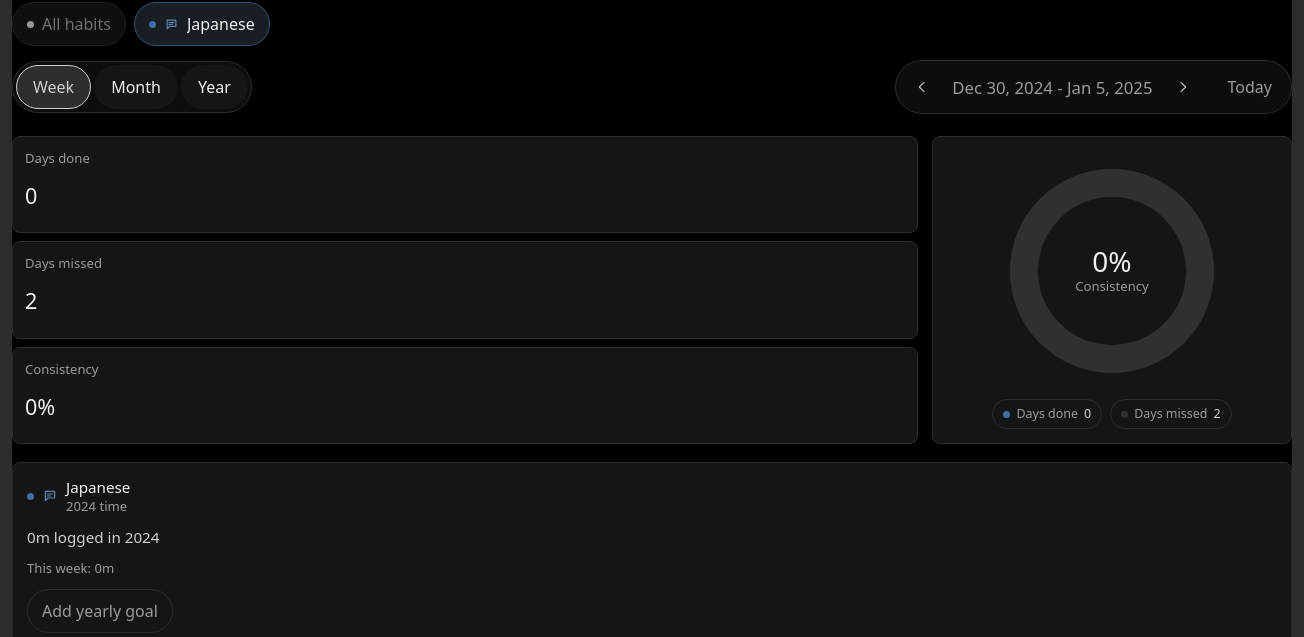
Scenario: StatisticsView time goal card › shows leap-year February date numbers in the Year calendar
The image size is (1304, 637).
Click the button "Year" at (214, 87), box [181, 65, 248, 109]
(page scrolled)
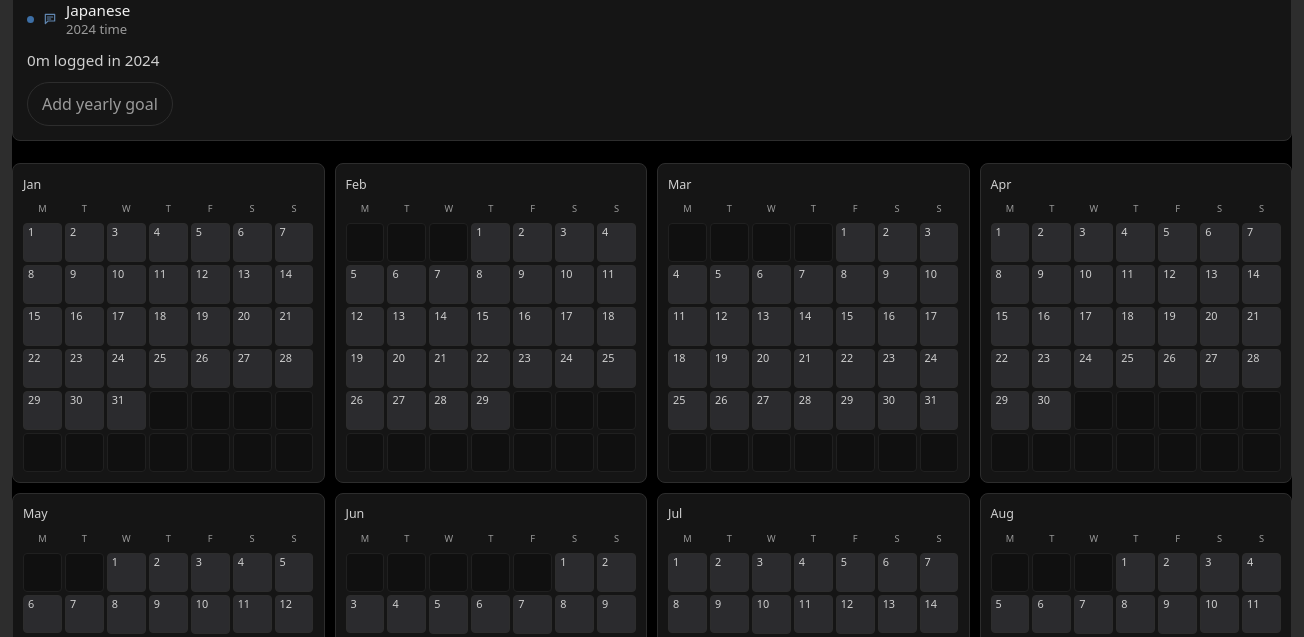
Now the text "29" below "Feb" is shown, box [476, 392, 489, 407]
